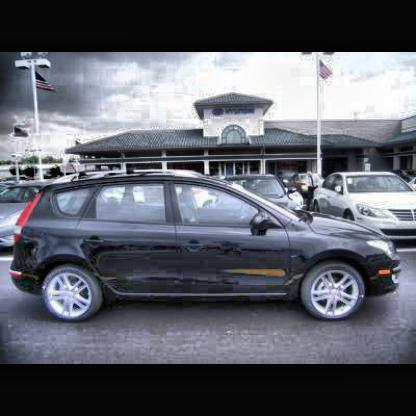Hyundai Elantra Touring Hatchback 2012: (15, 180, 410, 347)
